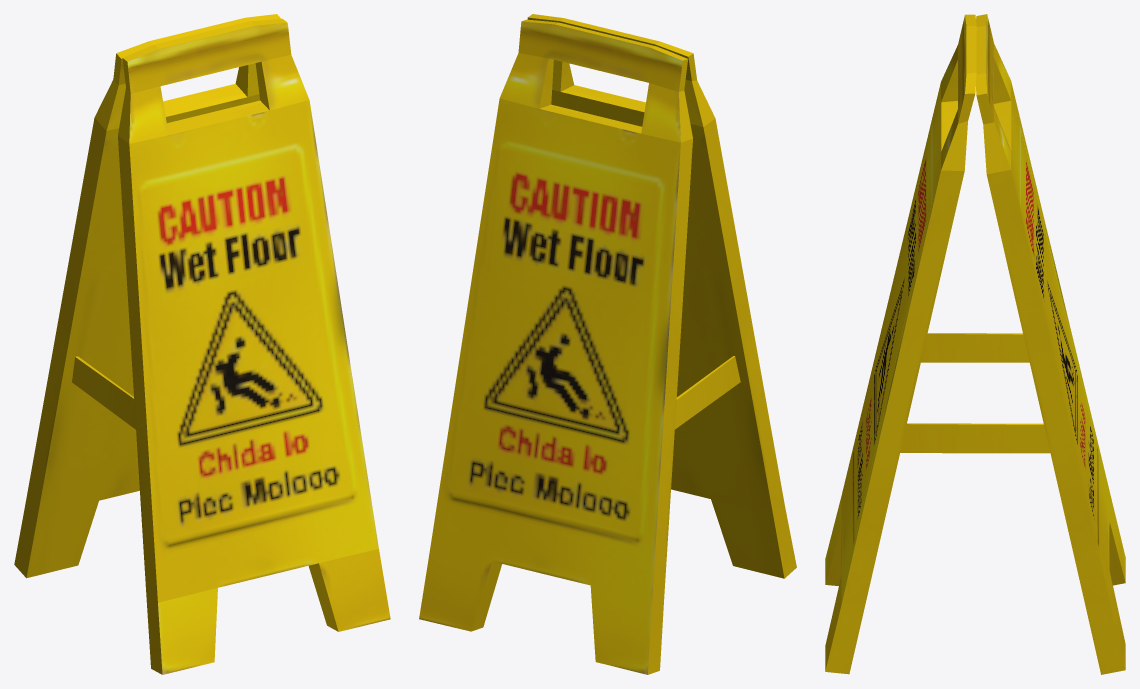
File: Wet_floor_sign.fbx
The picture shows the model from 3 angles, left to right: view 1: azimuth 30°, elevation 25°; view 2: azimuth 150°, elevation 25°; view 3: azimuth 270°, elevation 25°; orthographic projection.
Parts seen in each view (by area): view 1: Wet_floor_sign; view 2: Wet_floor_sign; view 3: Wet_floor_sign.
Part boxes in pixels (box(x1,y1,x2,y2)): Wet_floor_sign: box(14, 14, 390, 674); Wet_floor_sign: box(419, 14, 796, 674); Wet_floor_sign: box(825, 14, 1125, 674).
Size of the model in its own units: 39.97 by 94.16 by 45.02.
